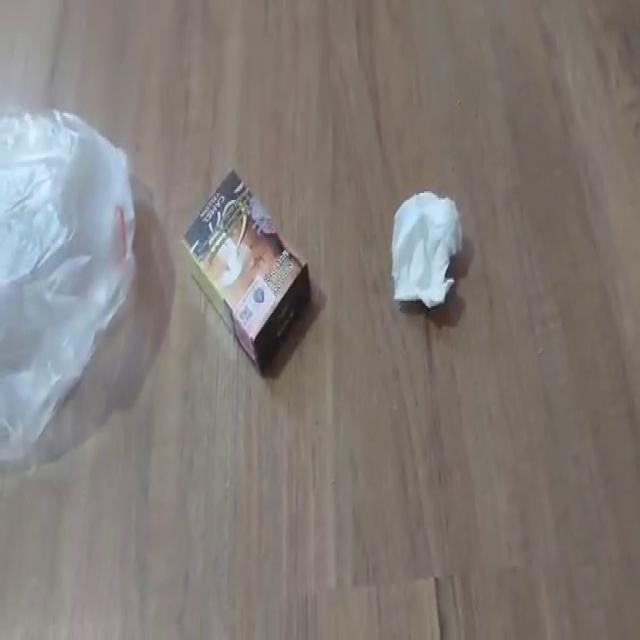Anorganik: (1, 96, 140, 471)
Organik: (180, 164, 316, 386), (389, 185, 467, 316)
